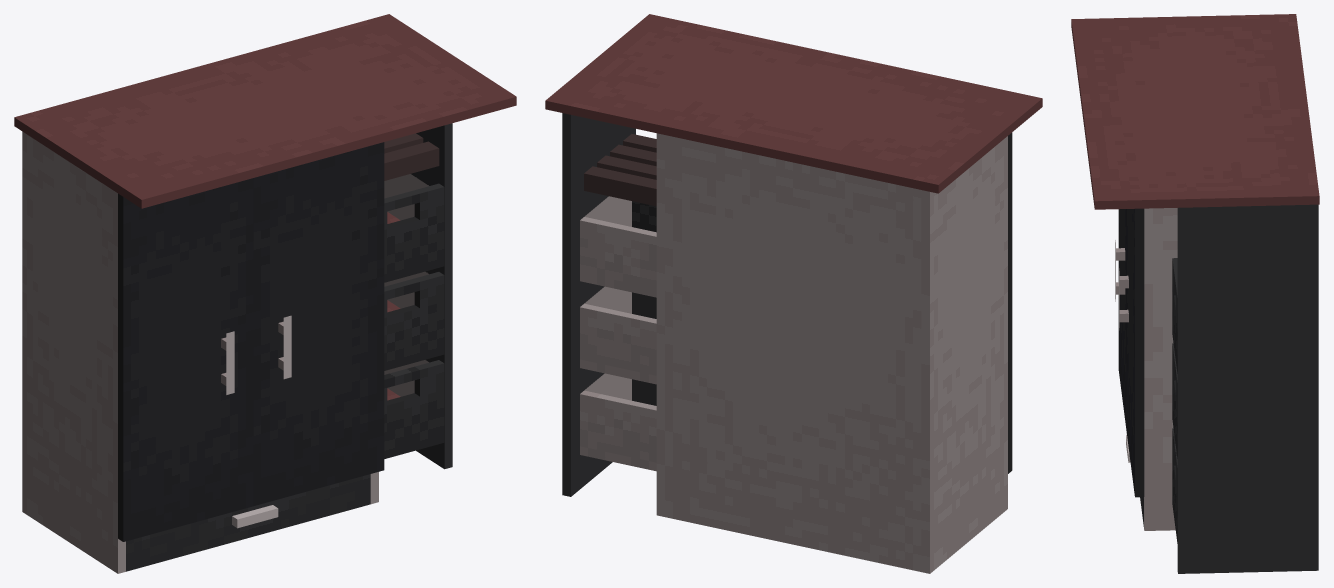
Rendered from closet.glb.
The picture shows the model from 3 angles, left to right: view 1: azimuth 30°, elevation 25°; view 2: azimuth 150°, elevation 25°; view 3: azimuth 270°, elevation 25°; orthographic projection. The views are drawn at different scales.
Parts seen in each view (by area): view 1: Mesh_0.008; view 2: Mesh_0.008; view 3: Mesh_0.008.
Part boxes in pixels (x1=…): Mesh_0.008: x1=14, y1=14, x2=516, y2=573; Mesh_0.008: x1=545, y1=14, x2=1042, y2=573; Mesh_0.008: x1=1071, y1=14, x2=1319, y2=573.
Size of the model in its own units: 47.23 by 45 by 26.45.
Materials: 1 (1 with a texture image).
